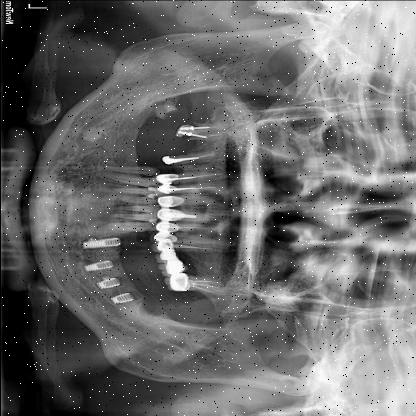Bicon: (77, 256, 122, 276), (75, 235, 128, 251), (88, 273, 130, 292), (103, 289, 137, 307)
